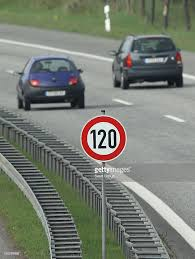Speed_limit_120km: (80, 115, 128, 163)
car: (108, 32, 186, 90), (12, 54, 89, 112)
